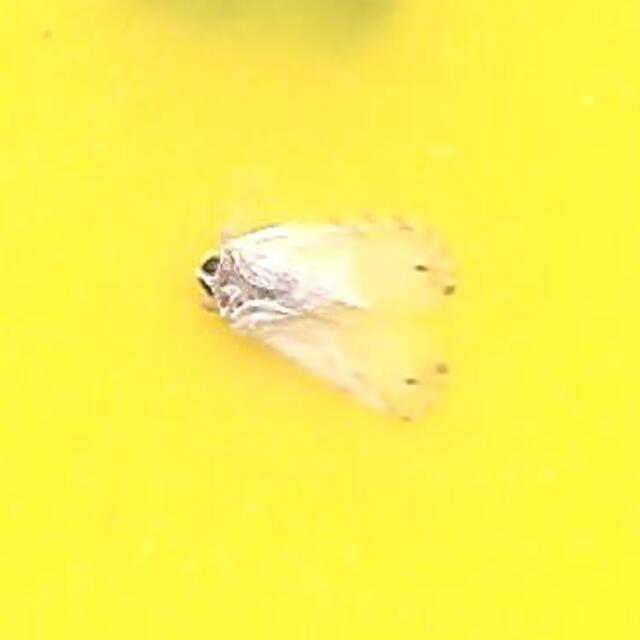Lepidoptera: (173, 213, 467, 427)
